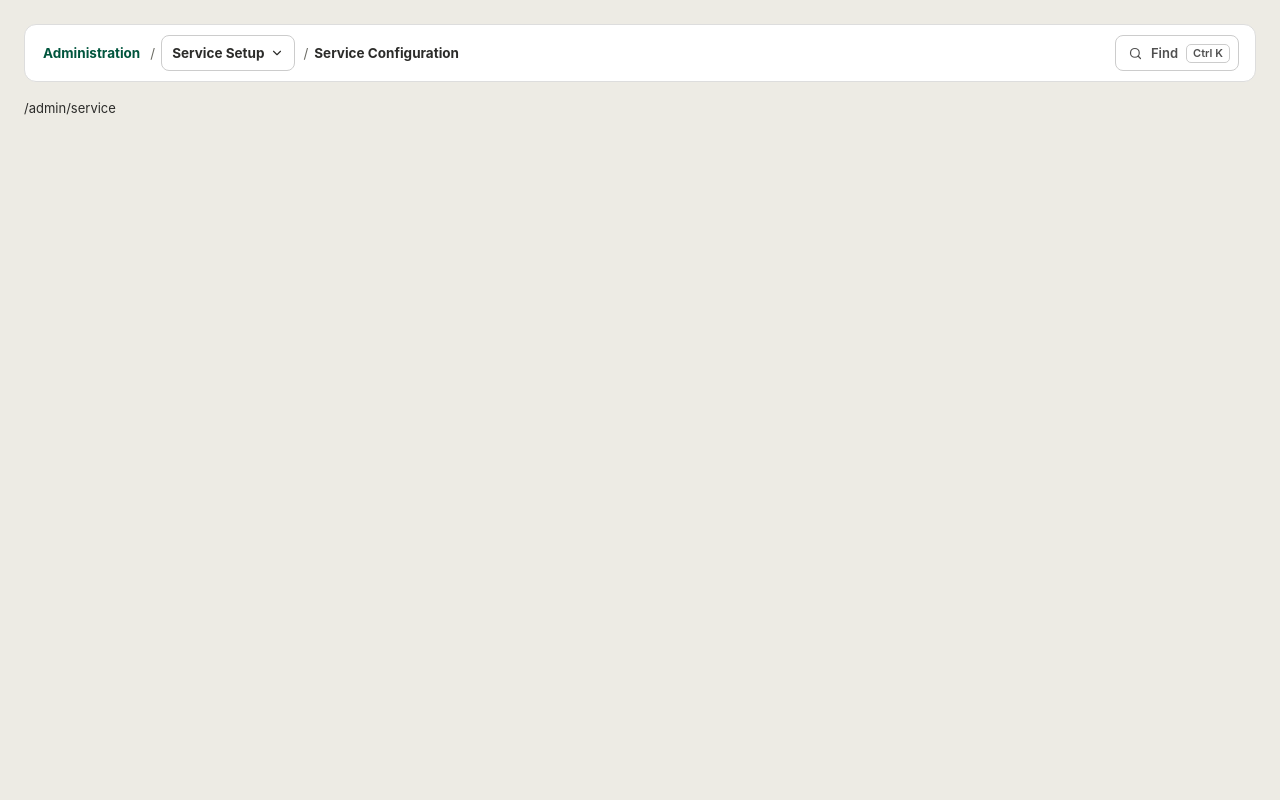
it: Quick find › opens on Ctrl+K, finds a tab by name, and goes there on Enter
Press k
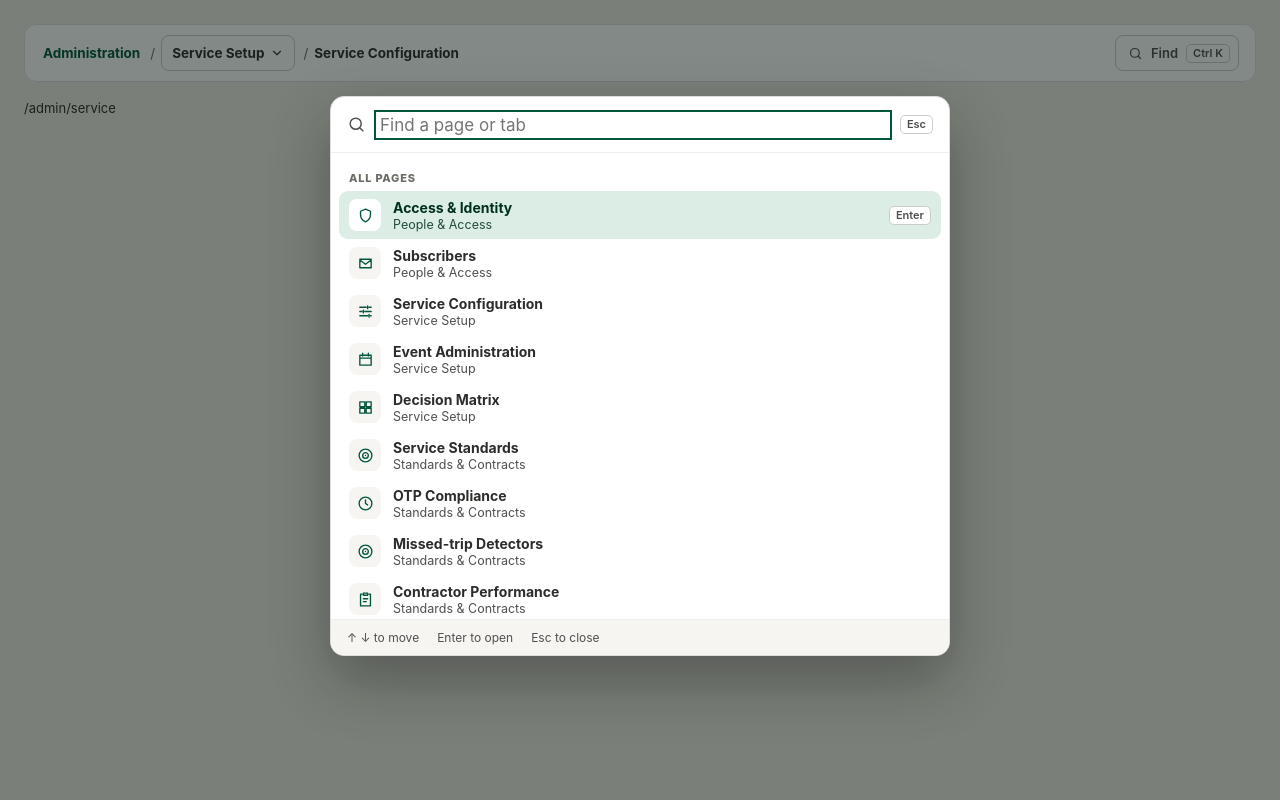
In the dropdown labelled "Find a page or tab": x=633, y=124 x1=378 y1=114 x2=888 y2=136, type "approv"
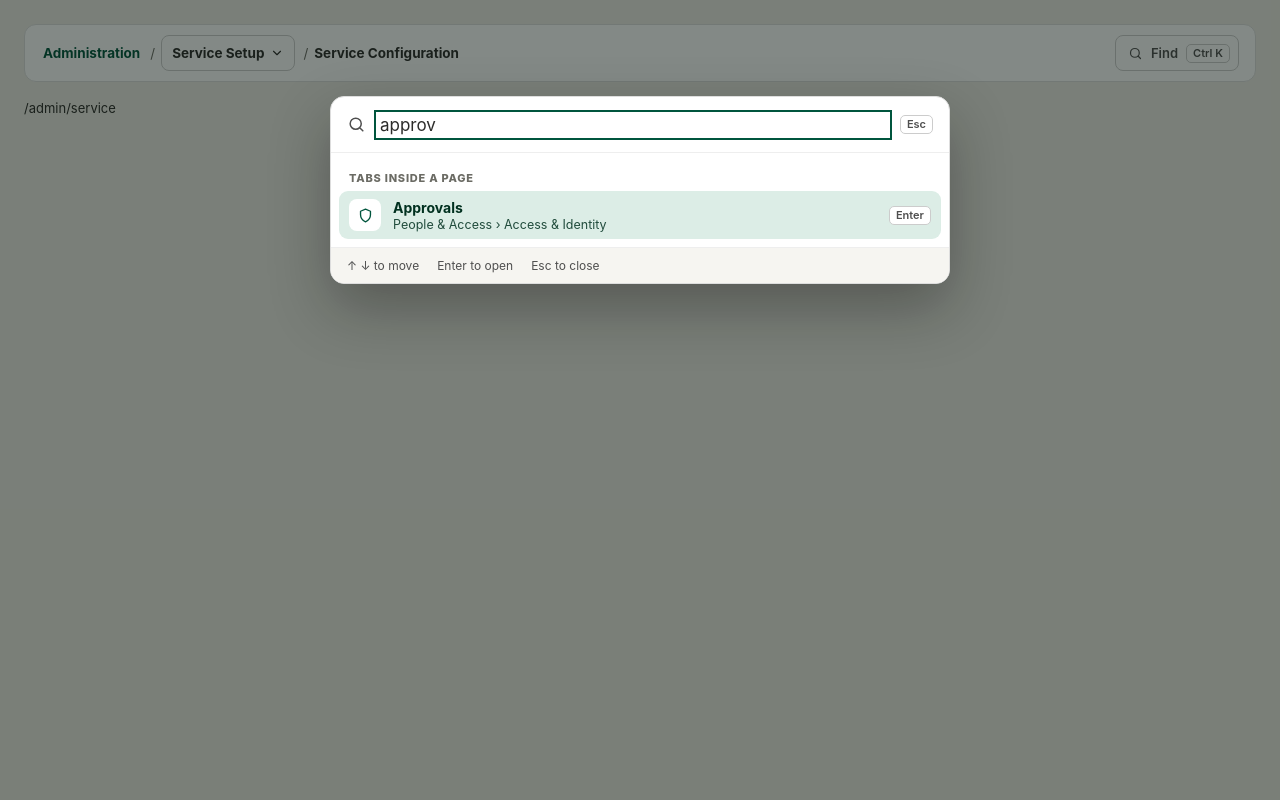
Press Enter in the dropdown named "Find a page or tab", box x1=378 y1=114 x2=888 y2=136
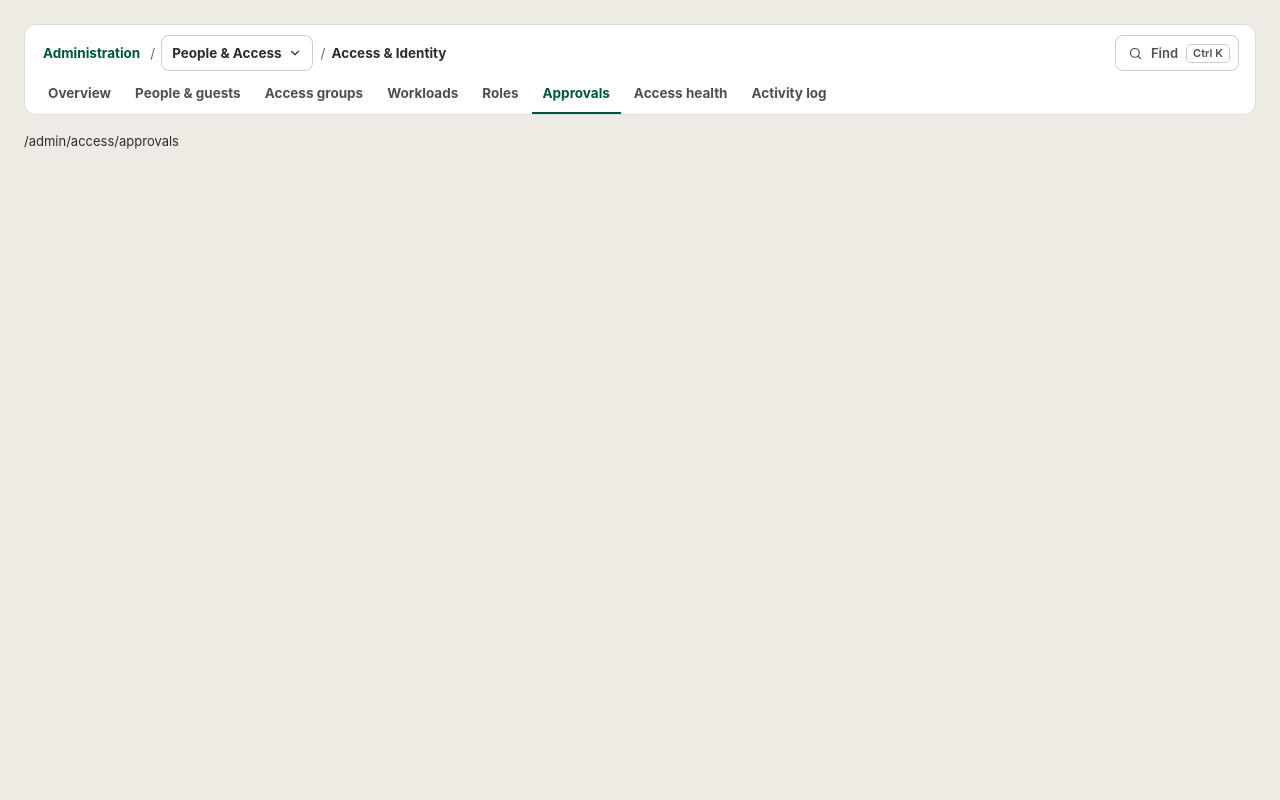
Expected: the text with test id "where" reads "/admin/access/approvals", x1=24 y1=133 x2=179 y2=149
Expected: the dialog is gone
